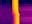Hotspot: (13, 0, 19, 23)
